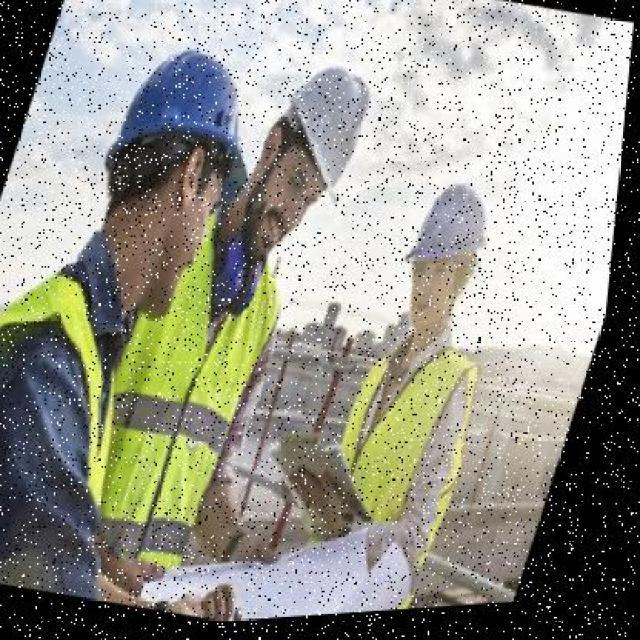helmet: (91, 38, 291, 230), (257, 57, 391, 222), (417, 188, 507, 280)
vest: (80, 252, 296, 620), (0, 260, 193, 608), (320, 322, 498, 562)
